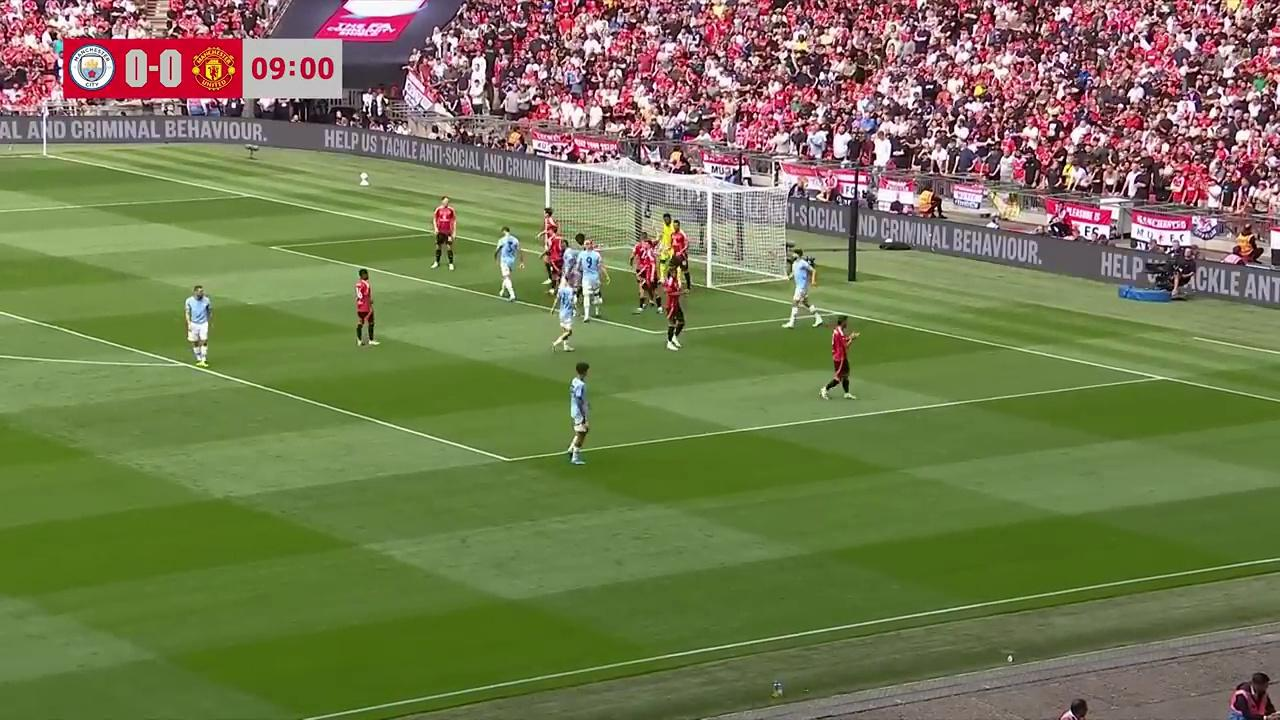player: (819, 318, 858, 401), (782, 255, 821, 328), (573, 238, 607, 320), (566, 362, 591, 464), (549, 271, 580, 352), (184, 283, 213, 366), (494, 226, 525, 300), (535, 209, 563, 288), (429, 196, 457, 270), (632, 241, 661, 312), (354, 269, 377, 347), (664, 274, 686, 350), (669, 218, 690, 285), (660, 210, 677, 274)
